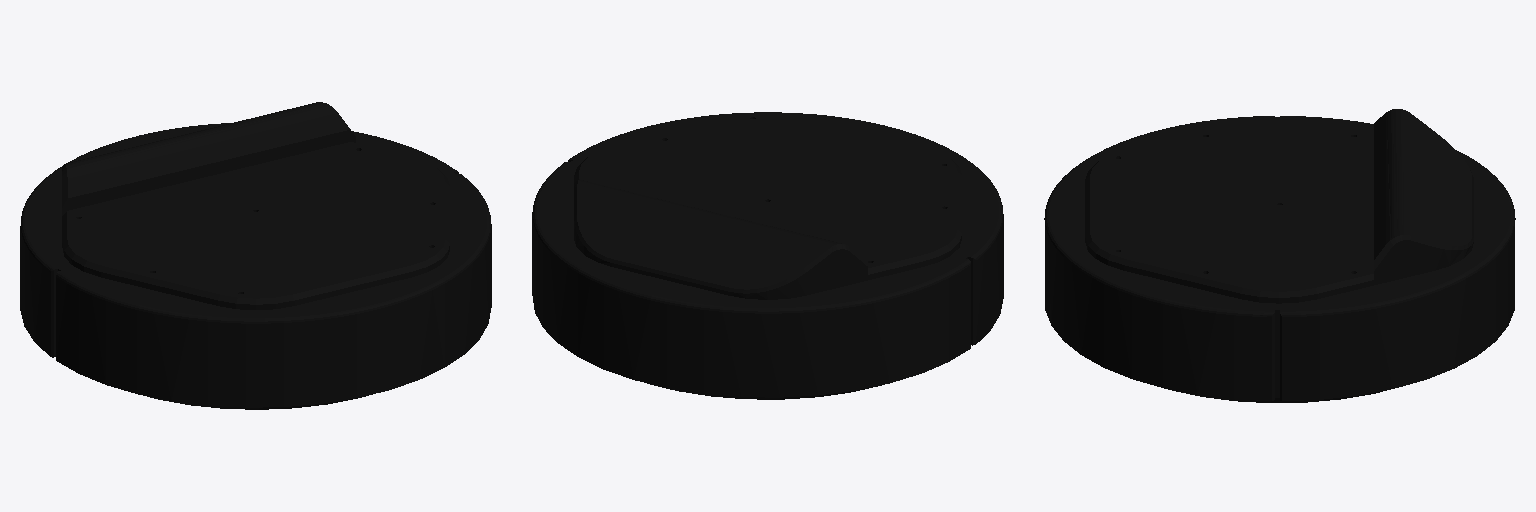
The robot description file, URDF, robot "kobuki":
<?xml version="1.0" encoding="utf-8"?>
<!-- This URDF was automatically created by SolidWorks to URDF Exporter! Originally created by [author] ([email redacted]) 
     Commit Version: 1.5.1-0-g916b5db  Build Version: 1.5.7152.31018
     For more information, please see http://wiki.ros.org/sw_urdf_exporter -->
<robot
  name="kobuki">
  <link
    name="kobuki">
    <inertial>
      <origin
        xyz="0.00027006 0.0027936 0.04724"
        rpy="0 0 0" />
      <mass
        value="8.4299" />
      <inertia
        ixx="0.070284"
        ixy="8.6852E-06"
        ixz="4.8401E-05"
        iyy="0.066653"
        iyz="0.0012496"
        izz="0.12483" />
    </inertial>
    <visual>
      <origin
        xyz="0 0 0"
        rpy="1.5707963267949 0 0" />
      <geometry>
        <mesh
          filename="package://kobuki/meshes/kobuki.STL" />
      </geometry>
      <material
        name="">
        <color
          rgba="0.10196 0.10196 0.10196 1" />
        <texture
          filename="package://kobuki/textures/" />
      </material>
    </visual>
    <collision>
      <origin
        xyz="0 0 0"
        rpy="1.5707963267949 0 0" />
      <geometry>
        <mesh
          filename="package://kobuki/meshes/kobuki.STL" />
      </geometry>
    </collision>
  </link>
</robot>

--- Facts derived from the render (not from the file) ---
Views: 3 orthographic renders of the robot side by side, from view 1: azimuth 30°, elevation 25°; view 2: azimuth 150°, elevation 25°; view 3: azimuth 270°, elevation 25°.
Robot: kobuki — 1 links, 0 joints (none); root link kobuki; default pose: all joints at 0.
Visible links, largest first — view 1: kobuki; view 2: kobuki; view 3: kobuki.
Boxes of the visible links, x1,y1,x2,y2 form: kobuki: [20, 102, 491, 409]; kobuki: [532, 112, 1003, 399]; kobuki: [1044, 109, 1515, 402].
Bounding box of the posed robot: 0.35 × 0.35 × 0.1323 m (x, y, z).
Meshes: 1 distinct files referenced, 1 mesh visuals loaded (1 binary STL).
